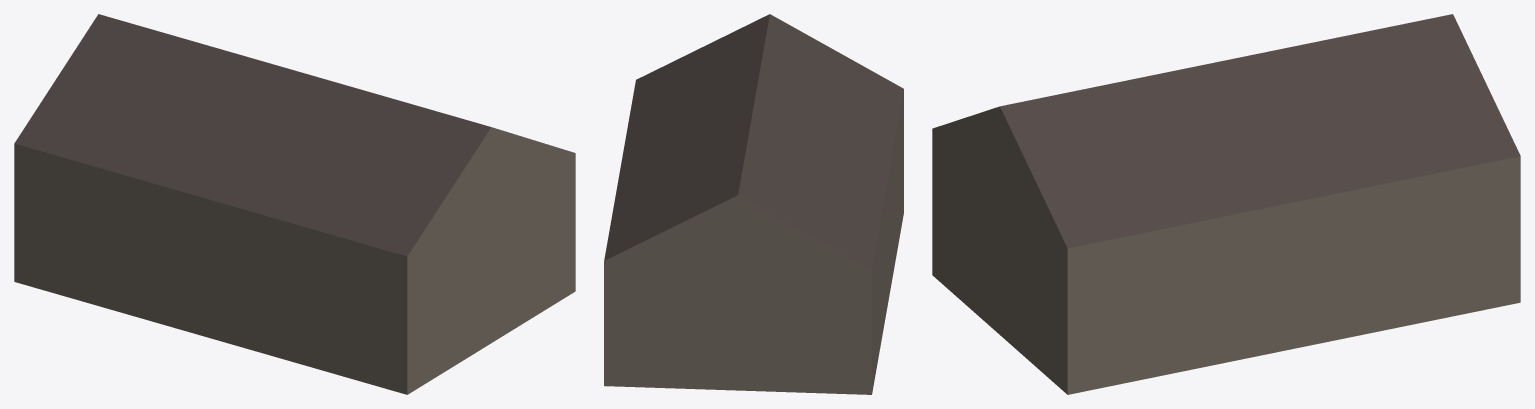
3 renders of one model, left to right at view 1: azimuth 30°, elevation 25°; view 2: azimuth 150°, elevation 25°; view 3: azimuth 270°, elevation 25°, orthographic. The views are drawn at different scales.
Parts seen in each view (by area): view 1: HP-w859424146; view 2: HP-w859424146; view 3: HP-w859424146.
Boxes of the visible parts, box(x1,y1,x2,y2) form: HP-w859424146: box(14, 14, 575, 394); HP-w859424146: box(604, 14, 903, 394); HP-w859424146: box(932, 14, 1520, 394).
Bounding box in the file's own units: 18.66 × 9.37 × 21.86.
